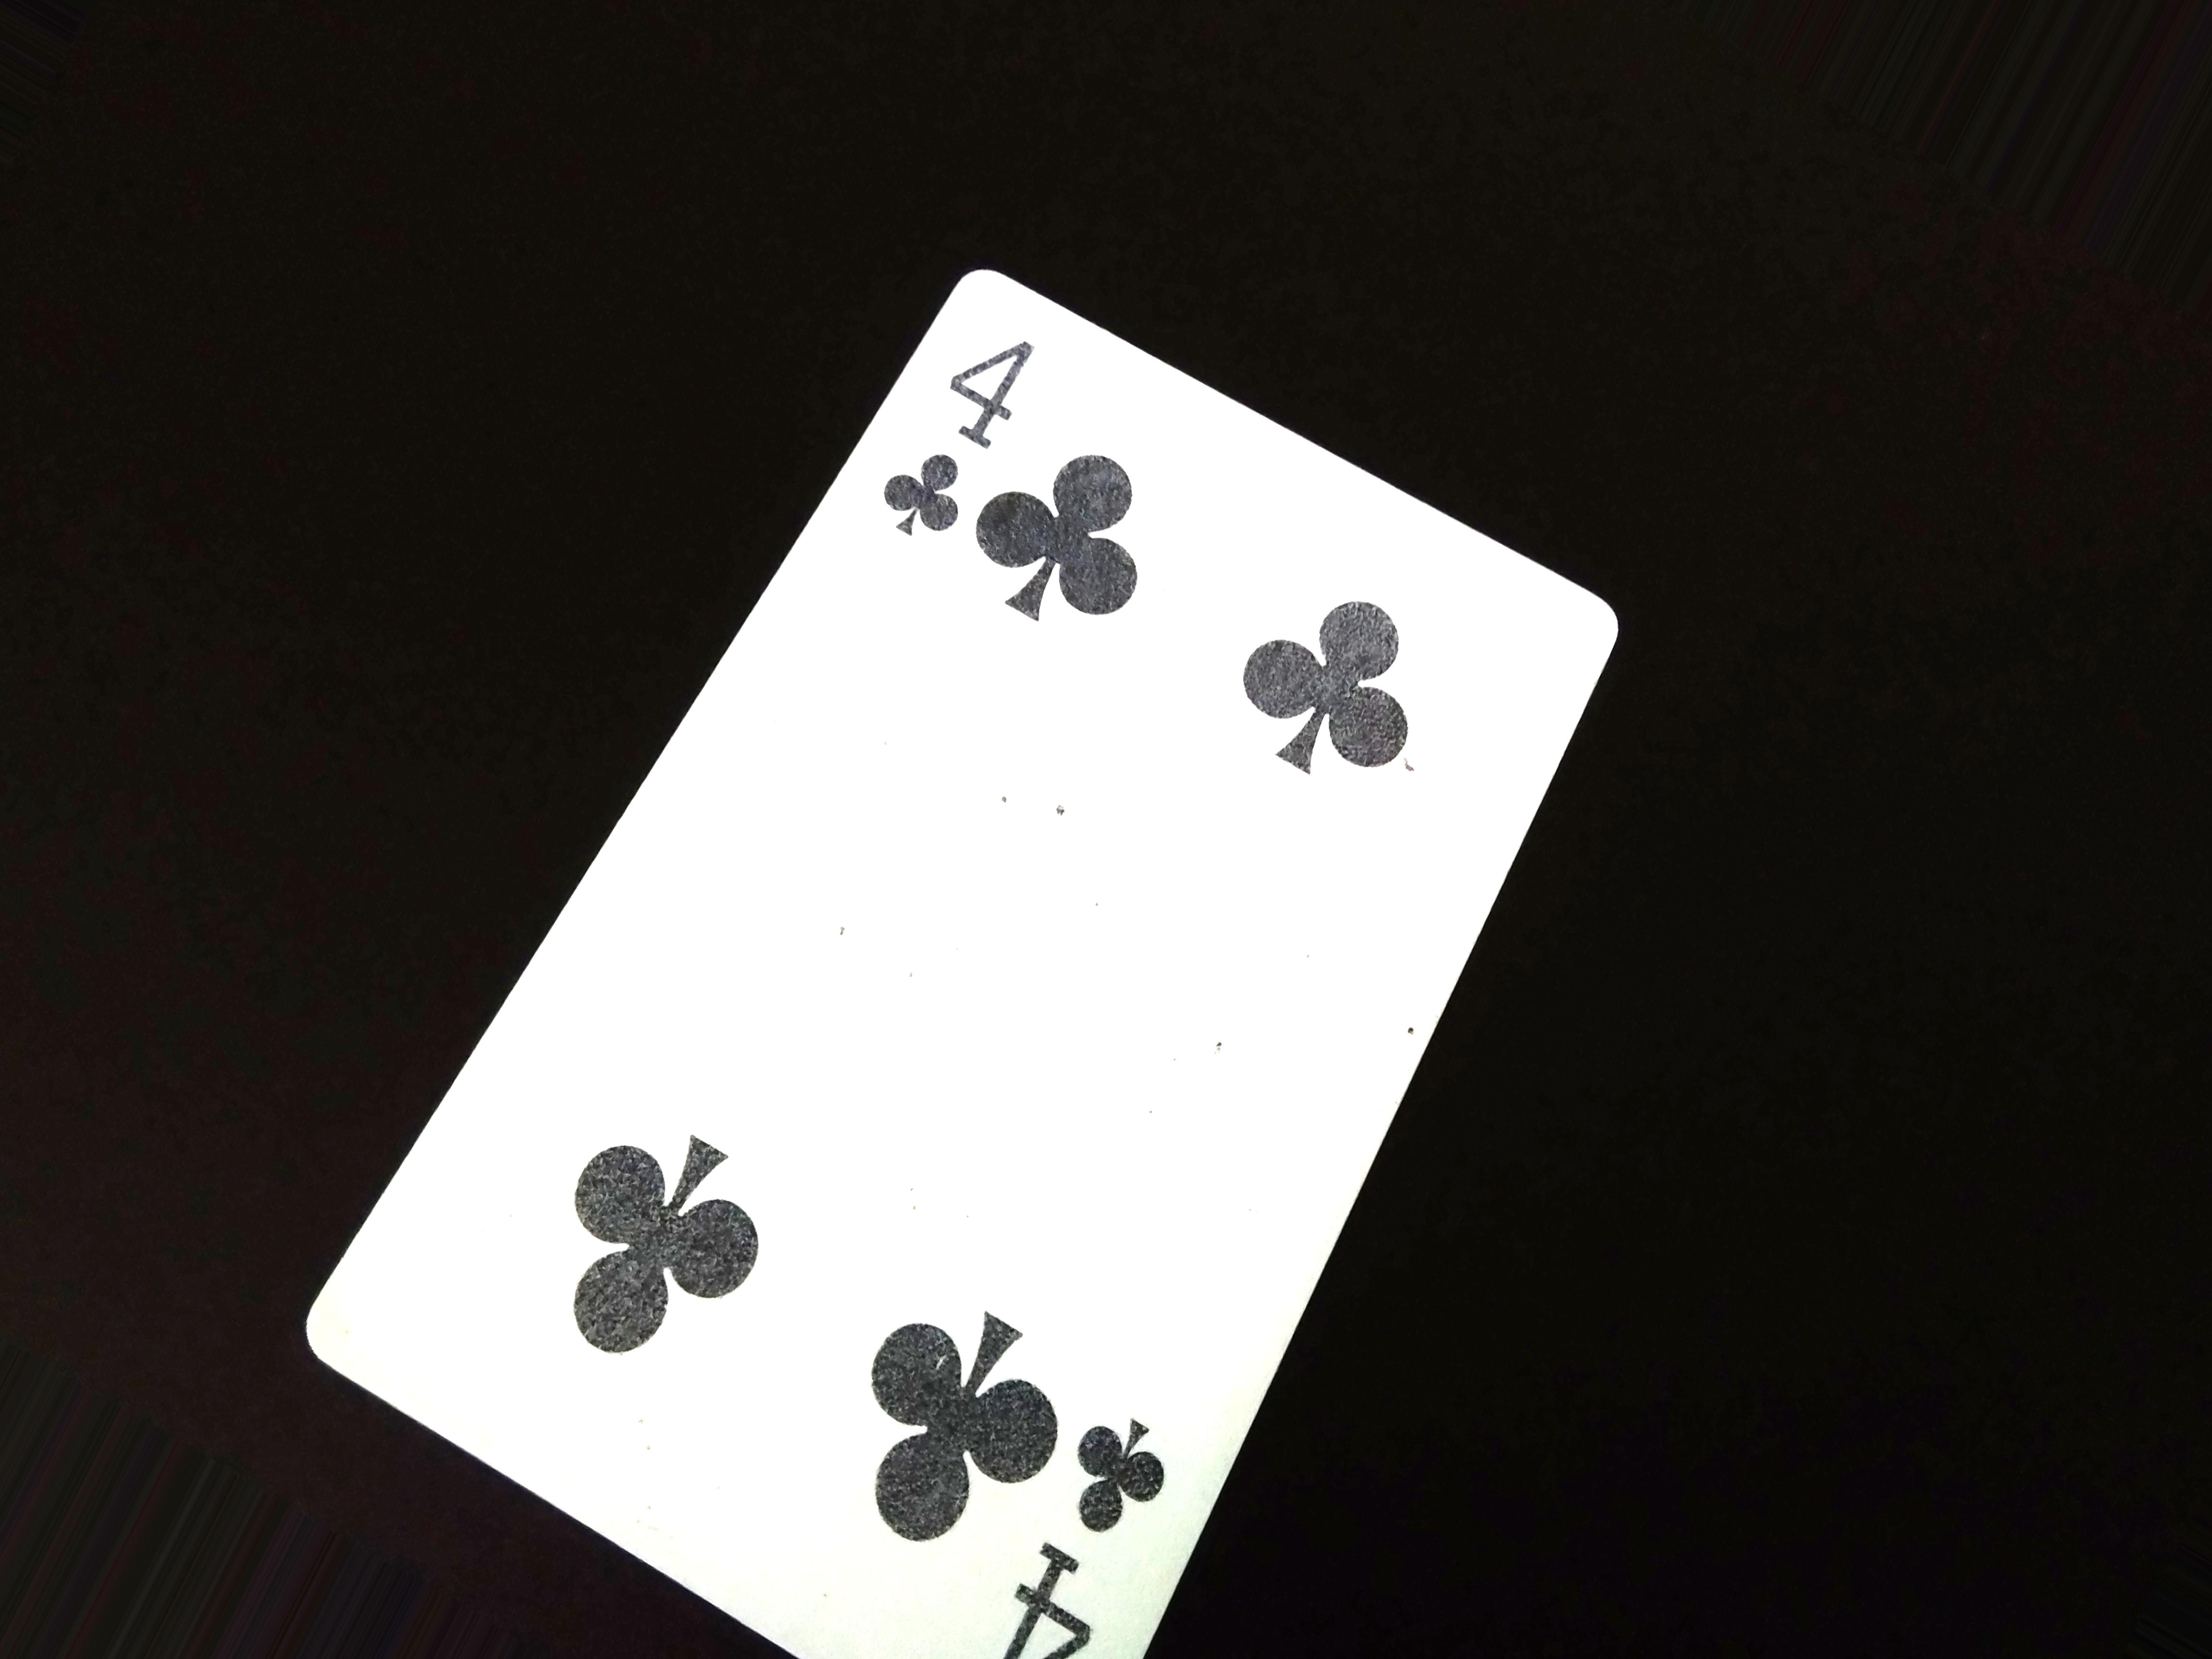4C: (878, 324, 1059, 544)
